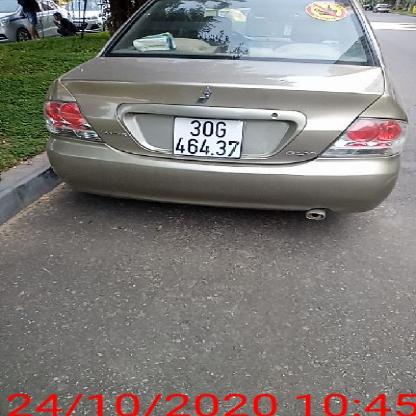biensoxe: (170, 112, 250, 163)
